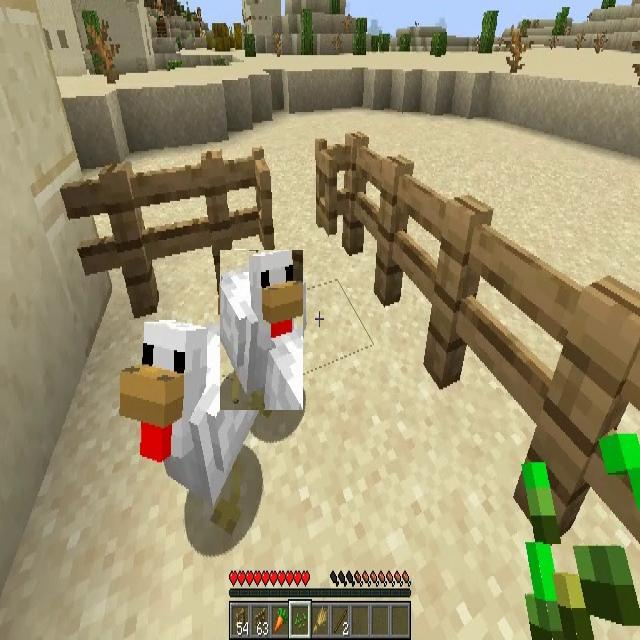duck: (119, 322, 260, 529), (220, 250, 303, 410)
